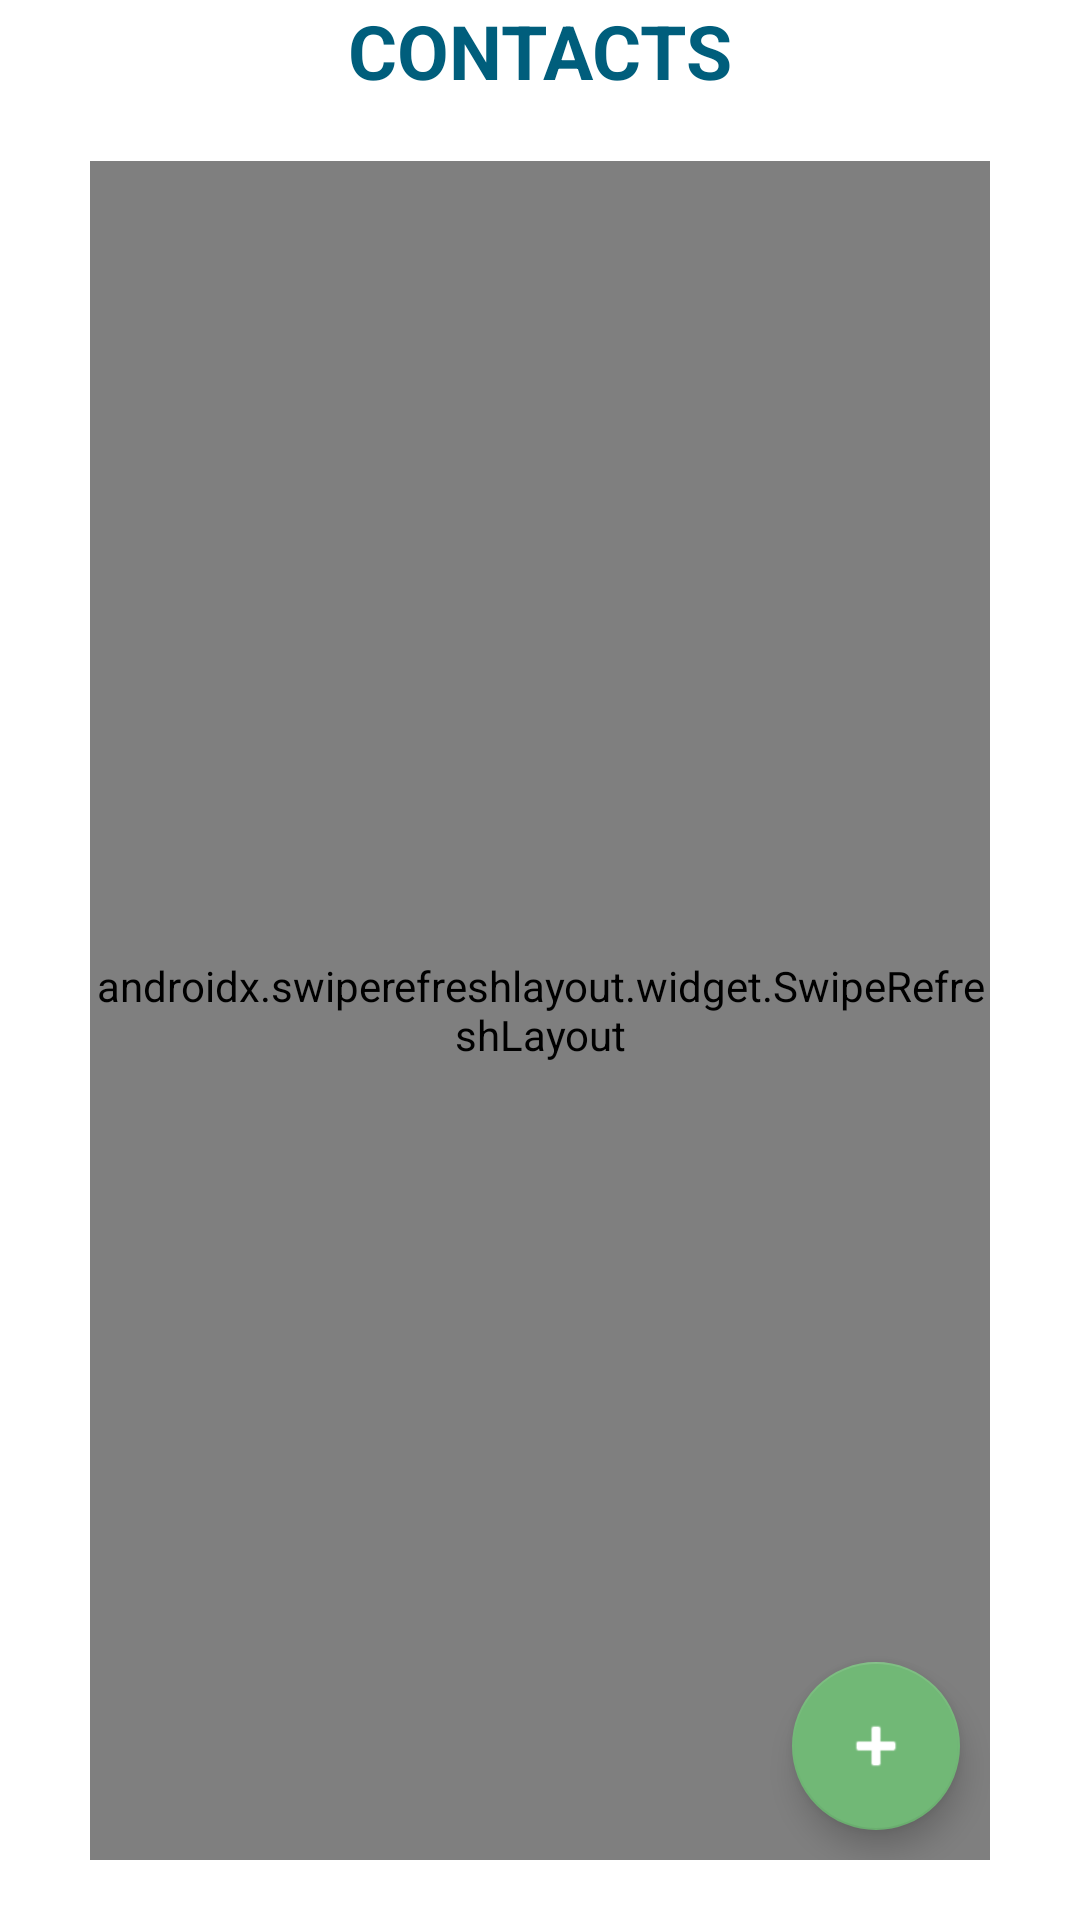

Icon bounding boxes for this 1080x1920 phone screenshot, format bbox(x1, y1, x2, y2):
add: bbox(792, 1662, 960, 1830)
